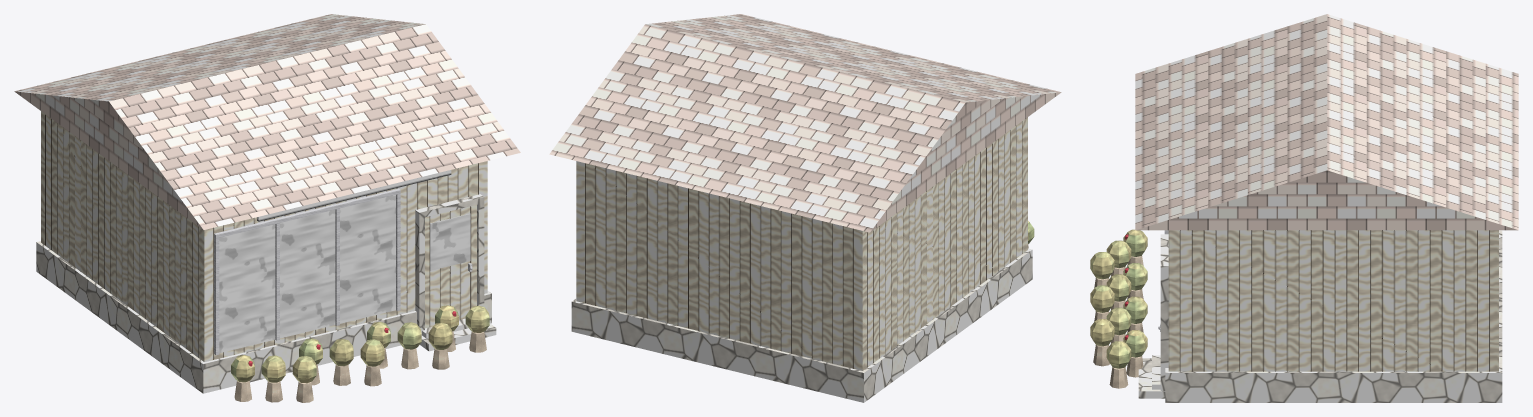
The model's file is negozio_piante.obj.
3 renders of one model, left to right at view 1: azimuth 30°, elevation 25°; view 2: azimuth 150°, elevation 25°; view 3: azimuth 270°, elevation 25°, orthographic.
Parts seen in each view (by area): view 1: tegole_002, legno_000, vetro_003, pietra_001, erba_007, metallo_004, legno_010, terra_006, pietra_011, vetro_012, stampa_a_005, pietra_014; view 2: tegole_002, legno_000, pietra_001; view 3: tegole_002, legno_000, pietra_001, erba_007, terra_006, pietra_011, pietra_014.
Boxes of the visible parts, x1,y1,x2,y2 form: tegole_002: (14,14,520,229); legno_000: (41,111,487,361); vetro_003: (219,195,395,353); pietra_001: (36,241,491,393); erba_007: (231,305,489,383); metallo_004: (214,188,400,355); legno_010: (425,205,476,328); terra_006: (234,331,486,402); pietra_011: (415,194,484,335); vetro_012: (430,213,470,270); stampa_a_005: (257,170,451,221); pietra_014: (420,323,496,351); tegole_002: (549,14,1061,232); legno_000: (576,117,1027,370); pietra_001: (571,248,1032,402); tegole_002: (1135,14,1518,230); legno_000: (1168,230,1498,371); pietra_001: (1165,230,1502,402); erba_007: (1090,229,1147,368); terra_006: (1093,256,1143,388); pietra_011: (1160,234,1168,390); pietra_014: (1138,358,1165,398).
Size of the model in its own units: 5.6 by 4 by 6.49.
Materials: 16 (15 with a texture image).
